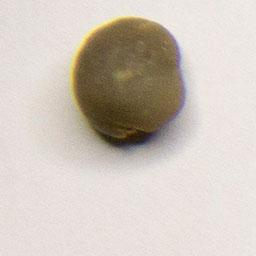peaberry: (69, 13, 189, 141)
